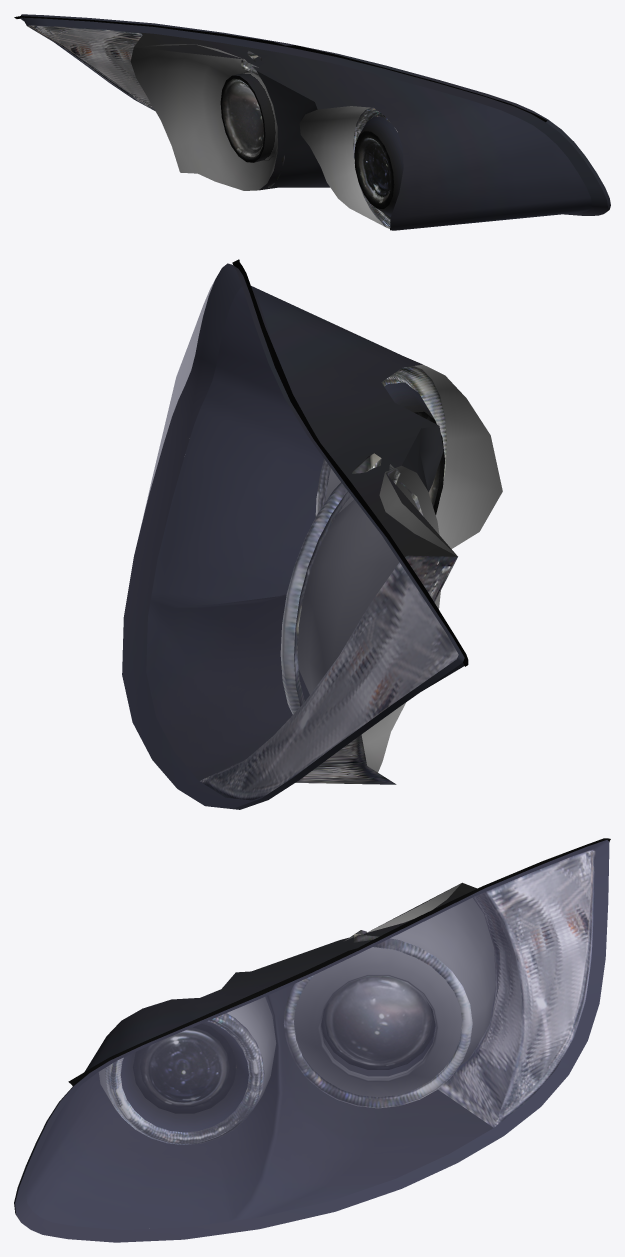
3 renders of one model, top to bottom at view 1: azimuth 30°, elevation 25°; view 2: azimuth 150°, elevation 25°; view 3: azimuth 270°, elevation 25°, orthographic. The views are drawn at different scales.
Parts seen in each view (by area): view 1: _4136_17_061B_L__4136_17_061B_L_2_D, _4136_17_061B_L_3_D__4136_17_061B_L; view 2: _4136_17_061B_L__4136_17_061B_L_2_D, _4136_17_061B_L__4136_17_061B_L_1_DTaSI, _4136_17_061B_L_3_D__4136_17_061B_L; view 3: _4136_17_061B_L__4136_17_061B_L_2_D, _4136_17_061B_L__4136_17_061B_L_1_DTaSI, _4136_17_061B_L_3_D__4136_17_061B_L.
Boxes of the visible parts, x1=… form: _4136_17_061B_L__4136_17_061B_L_2_D: x1=20, y1=14, x2=610, y2=230; _4136_17_061B_L_3_D__4136_17_061B_L: x1=14, y1=16, x2=547, y2=121; _4136_17_061B_L__4136_17_061B_L_2_D: x1=122, y1=263, x2=502, y2=809; _4136_17_061B_L__4136_17_061B_L_1_DTaSI: x1=122, y1=263, x2=458, y2=808; _4136_17_061B_L_3_D__4136_17_061B_L: x1=232, y1=259, x2=468, y2=666; _4136_17_061B_L__4136_17_061B_L_2_D: x1=14, y1=840, x2=609, y2=1242; _4136_17_061B_L__4136_17_061B_L_1_DTaSI: x1=15, y1=840, x2=609, y2=1242; _4136_17_061B_L_3_D__4136_17_061B_L: x1=68, y1=838, x2=610, y2=1086.
Bounding box in the file's own units: 35.32 × 14.54 × 38.18.
